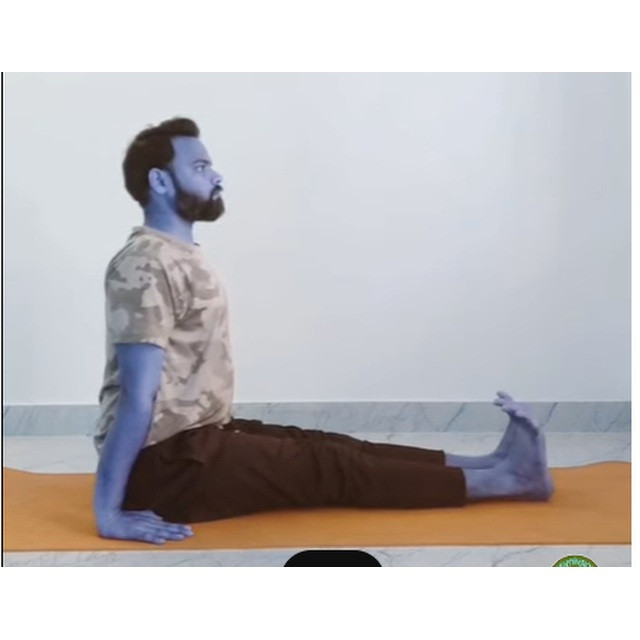Staff_Pose: (89, 115, 553, 542)
